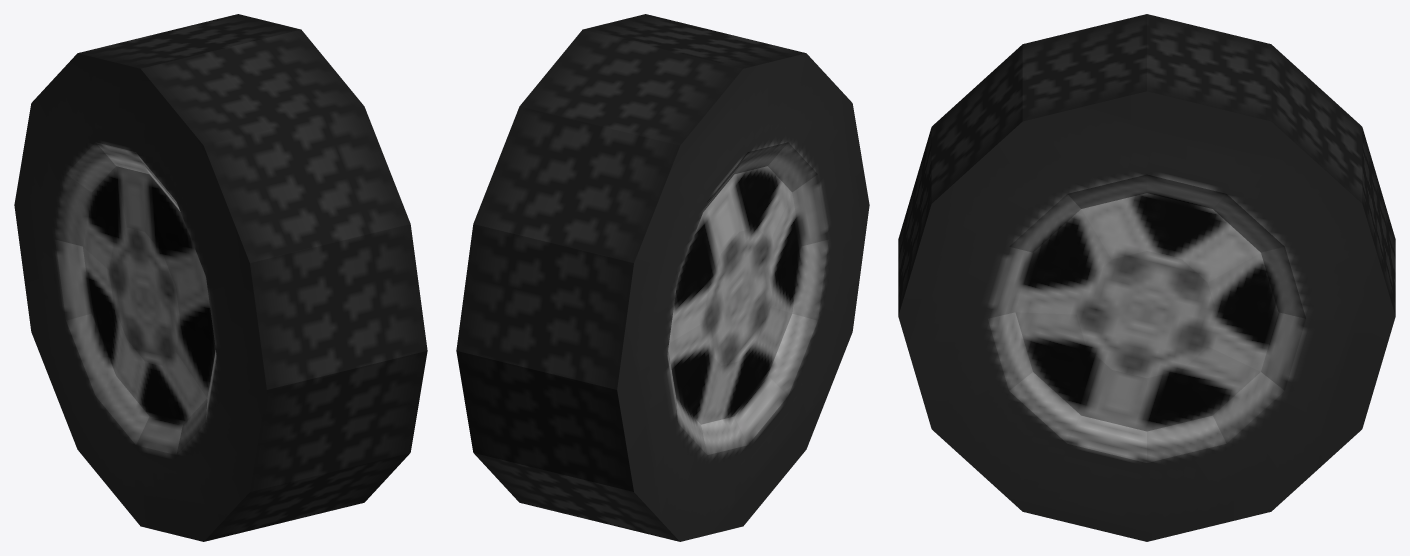
File: Vehicles_lrdisco1_Wheel.fbx
3 views of the same model, side by side, from view 1: azimuth 30°, elevation 25°; view 2: azimuth 150°, elevation 25°; view 3: azimuth 270°, elevation 25° (orthographic).
Parts seen in each view (by area): view 1: Untitled; view 2: Untitled; view 3: Untitled.
Boxes of the visible parts, x1,y1,x2,y2 form: Untitled: [14, 14, 427, 541]; Untitled: [456, 14, 869, 541]; Untitled: [898, 14, 1395, 541].
Size of the model in its own units: 29.5 by 75.92 by 75.92.
